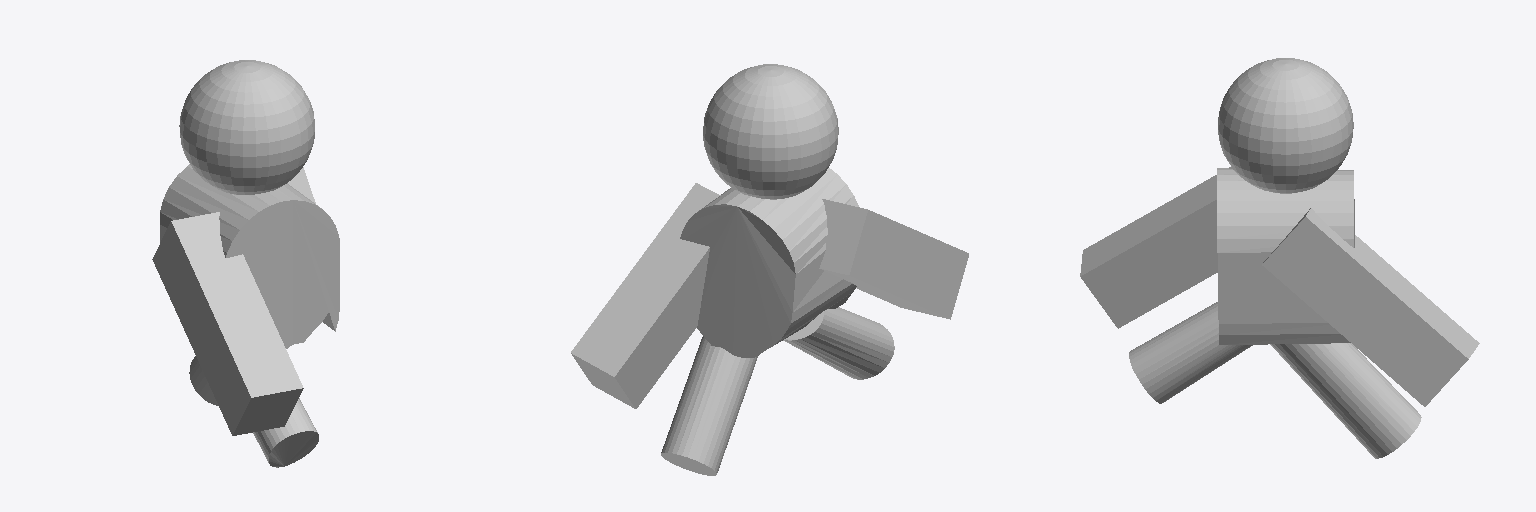
The model's file is Figurine127.obj.
The picture shows the model from 3 angles: view 1: azimuth 30°, elevation 25°; view 2: azimuth 150°, elevation 25°; view 3: azimuth 270°, elevation 25°; orthographic projection.
Visible parts, largest first — view 1: Cylinder; view 2: Cylinder; view 3: Cylinder.
Part boxes in pixels (x1,y1,x2,y2): Cylinder: (152,60,339,467); Cylinder: (571,64,968,475); Cylinder: (1080,58,1479,458).
Bounding box in the file's own units: 3.49 × 6.12 × 5.86.